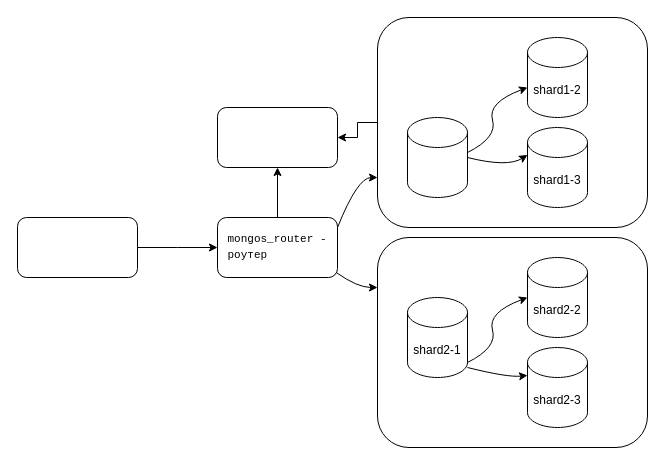
Some shapes in this 665 by 465 pixel diagram are drawn without their labels. Here are the shapes that lost their labels. From the top down, the centre of each, then its label:
point 277,137: configSrv - конфигурационный сервер
point 437,157: shard1-1
point 77,247: pymongo-api
